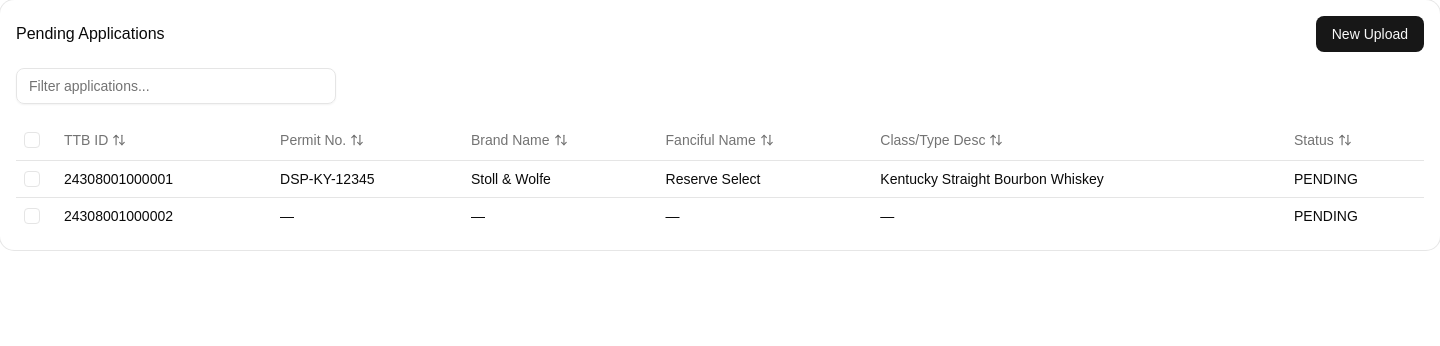
Scenario: DashboardPage › processes selected applications and shows the batch summary header (12.4/12.6)
Expected: the text "24308001000001" is shown, [56, 160, 272, 197]
Click the checkbox named "Select application 1" at coordinates (32, 178), box [24, 170, 40, 186]
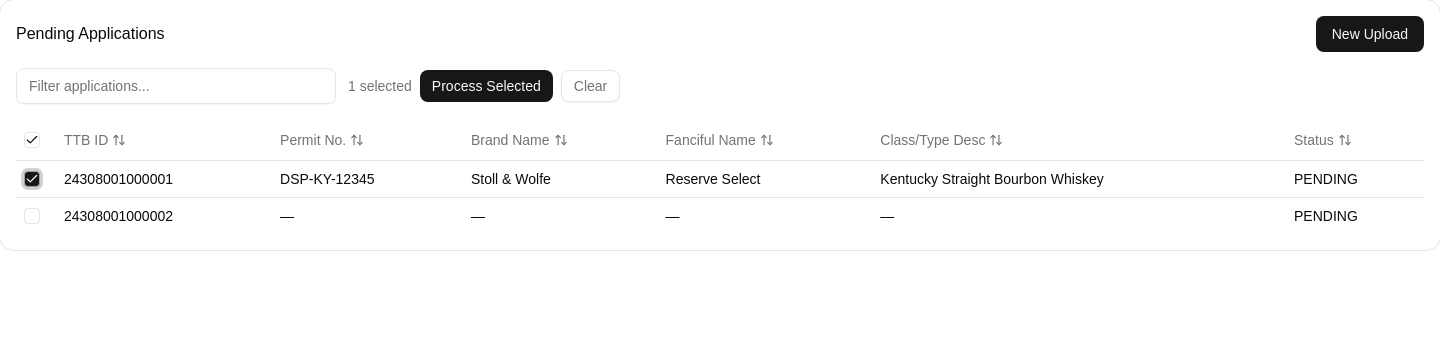
Click the button "Process Selected" at coordinates (486, 86), box [420, 70, 553, 102]
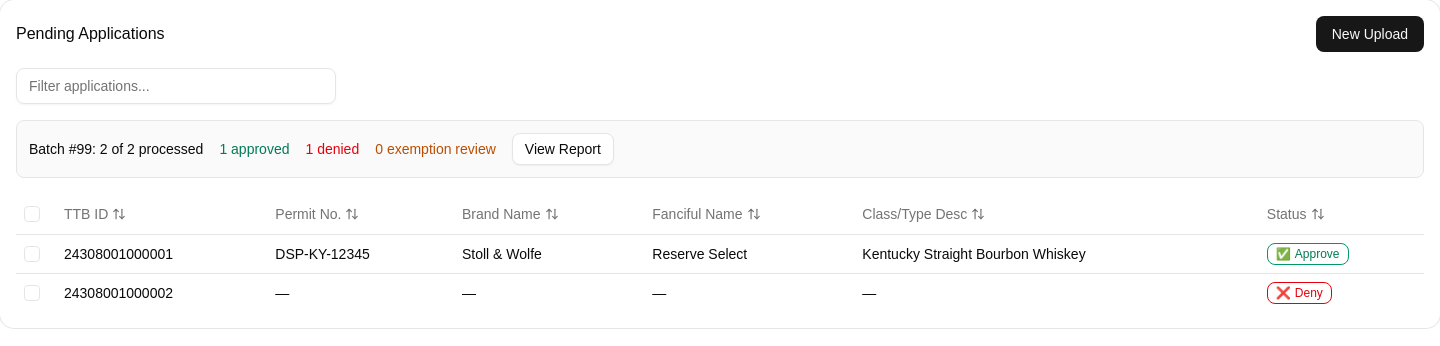
Expected: the text "Batch #99: 2 of 2 processed" is shown, [29, 139, 203, 159]
Expected: the text "1 approved" is shown, [219, 139, 290, 159]
Expected: the text "1 denied" is shown, [306, 139, 359, 159]
